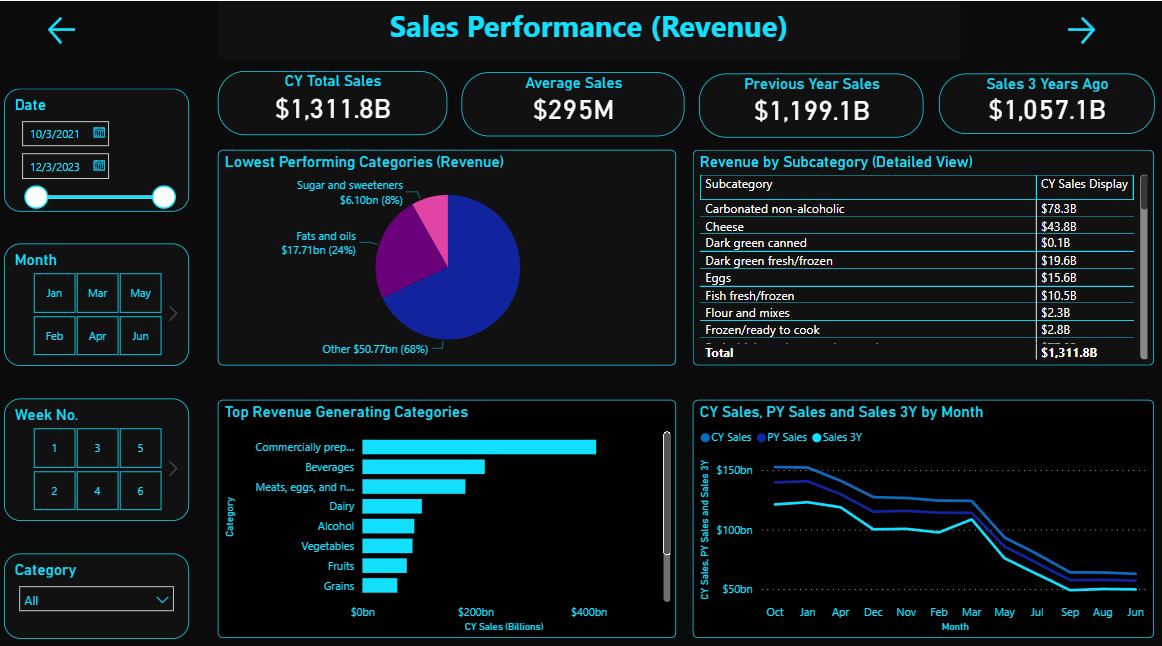

This screenshot's page, from the dashboard's own definition file:
{"tool":"powerbi","page":{"name":"Sales Performance","canvas":[1280,720],"ordinal":1},"visuals":[{"type":"card","title":"Sales 3 Years Ago","fields":{"Values":["clean_data.Sales 3Y Display"]},"box":[1031.7,79.6,236.7,66.7],"z":0},{"type":"pivotTable","title":"Revenue by Subcategory (Detailed View)","fields":{"Rows":["clean_data.Subcategory"],"Values":["clean_data.CY Sales Display"]},"box":[761.7,163.3,506.7,236.7],"z":1000},{"type":"pieChart","title":"Lowest Performing Categories (Revenue)","fields":{"Category":["clean_data.Category"],"Y":["clean_data.CY Sales"]},"box":[240,163.3,503.3,236.7],"z":2000},{"type":"lineChart","fields":{"Category":["clean_data.Month"],"Y":["clean_data.CY Sales","clean_data.PY Sales","clean_data.Sales 3Y"]},"box":[761.7,438.3,506.7,261.7],"z":3000},{"type":"clusteredBarChart","title":"Top Revenue Generating Categories","fields":{"Category":["clean_data.Category"],"Y":["clean_data.CY Sales"]},"box":[240,438.3,503.3,261.7],"z":4000},{"type":"slicer","title":"Date","fields":{"Values":["clean_data.Date"]},"box":[5,95.6,203.3,135.6],"z":5000},{"type":"card","title":"CY Total Sales","fields":{"Values":["clean_data.CY Sales Display"]},"box":[240,77.4,251.7,70],"z":6000},{"type":"card","title":"Average Sales","fields":{"Values":["clean_data.Avg Sales Display"]},"box":[507.8,78.5,245,70],"z":7000},{"type":"card","title":"Previous Year Sales","fields":{"Values":["clean_data.PY Sales Display"]},"box":[768.9,79.6,246.7,70],"z":8000},{"type":"textbox","box":[240,0,815,63.3],"z":9000},{"type":"slicer","title":"Month","fields":{"Values":["clean_data.Month"]},"box":[5,266.7,203.3,134.4],"z":10000},{"type":"slicer","title":"Week No.","fields":{"Values":["clean_data.WeekNo"]},"box":[5,436.7,203.3,134.4],"z":11000},{"type":"slicer","title":"Category","fields":{"Values":["clean_data.Category"]},"box":[5,606.7,203.3,93.3],"z":12000},{"type":"actionButton","box":[50,11.7,78.3,40],"z":13000},{"type":"actionButton","box":[1168.3,11.7,100,40],"z":14000}]}

Visuals, with their boxes in screenshot pixels (x1, y1, x2, y2), scaled from the page's 1280x720 canvas onto the 1162x646 screenshot:
"Sales 3 Years Ago" card: <box>937,71,1151,131</box>
"Revenue by Subcategory (Detailed View)" pivotTable: <box>691,147,1151,359</box>
"Lowest Performing Categories (Revenue)" pieChart: <box>218,147,675,359</box>
lineChart - clean_data.Month x clean_data.CY Sales: <box>691,393,1151,628</box>
"Top Revenue Generating Categories" clusteredBarChart: <box>218,393,675,628</box>
"Date" slicer: <box>5,86,189,207</box>
"CY Total Sales" card: <box>218,69,446,132</box>
"Average Sales" card: <box>461,70,683,133</box>
"Previous Year Sales" card: <box>698,71,922,134</box>
textbox: <box>218,0,958,57</box>
"Month" slicer: <box>5,239,189,360</box>
"Week No." slicer: <box>5,392,189,512</box>
"Category" slicer: <box>5,544,189,628</box>
actionButton: <box>45,10,116,46</box>
actionButton: <box>1061,10,1151,46</box>
